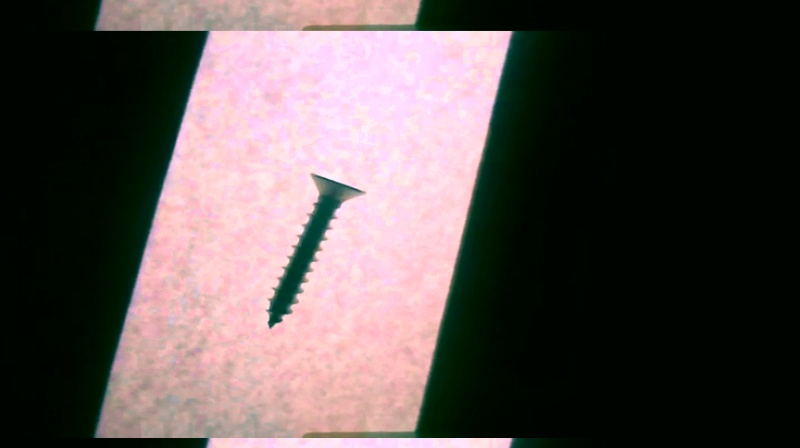S001: (264, 169, 368, 331)
